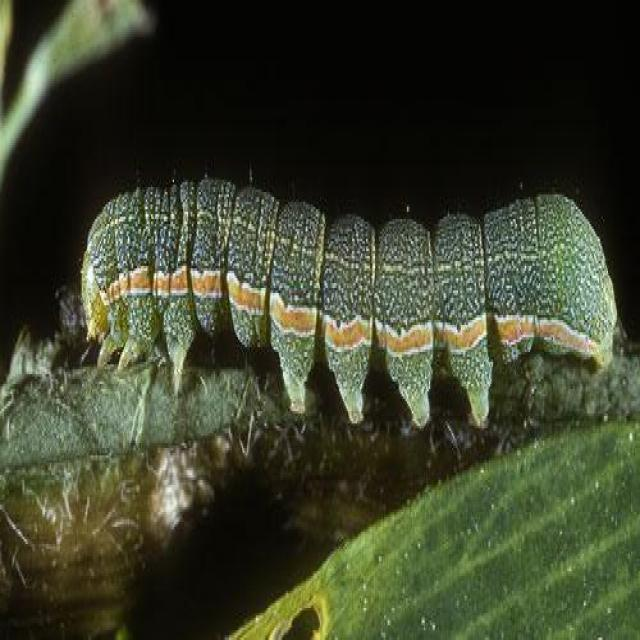BeetArmyWorm-Larva-: (66, 154, 619, 433)
